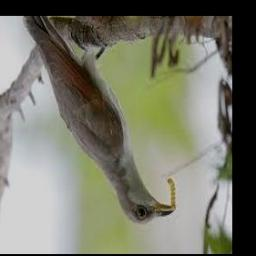Cuckoo: (23, 16, 174, 224)
